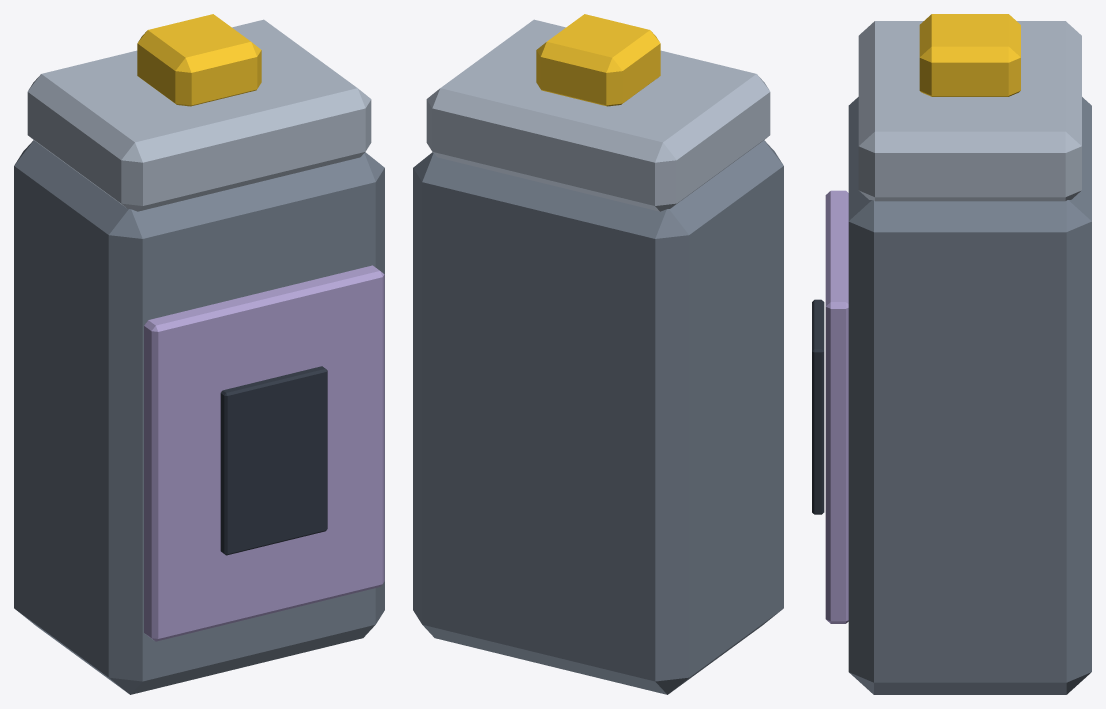
Rendered from Throwable_EMP_v001.fbx.
3 views of the same model, side by side, from view 1: azimuth 30°, elevation 25°; view 2: azimuth 150°, elevation 25°; view 3: azimuth 270°, elevation 25° (orthographic).
Parts seen in each view (by area): view 1: Throwable_EMP__RECEIVER_MESH; view 2: Throwable_EMP__RECEIVER_MESH; view 3: Throwable_EMP__RECEIVER_MESH.
Part boxes in pixels (x1,y1,x2,y2): Throwable_EMP__RECEIVER_MESH: [14, 14, 384, 694]; Throwable_EMP__RECEIVER_MESH: [413, 14, 783, 694]; Throwable_EMP__RECEIVER_MESH: [812, 14, 1091, 694].
Size of the model in its own units: 0.32 by 0.66 by 0.276.
